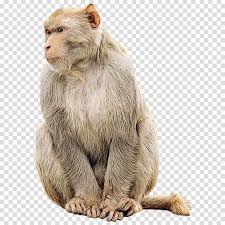monkey: (10, 6, 208, 216)
